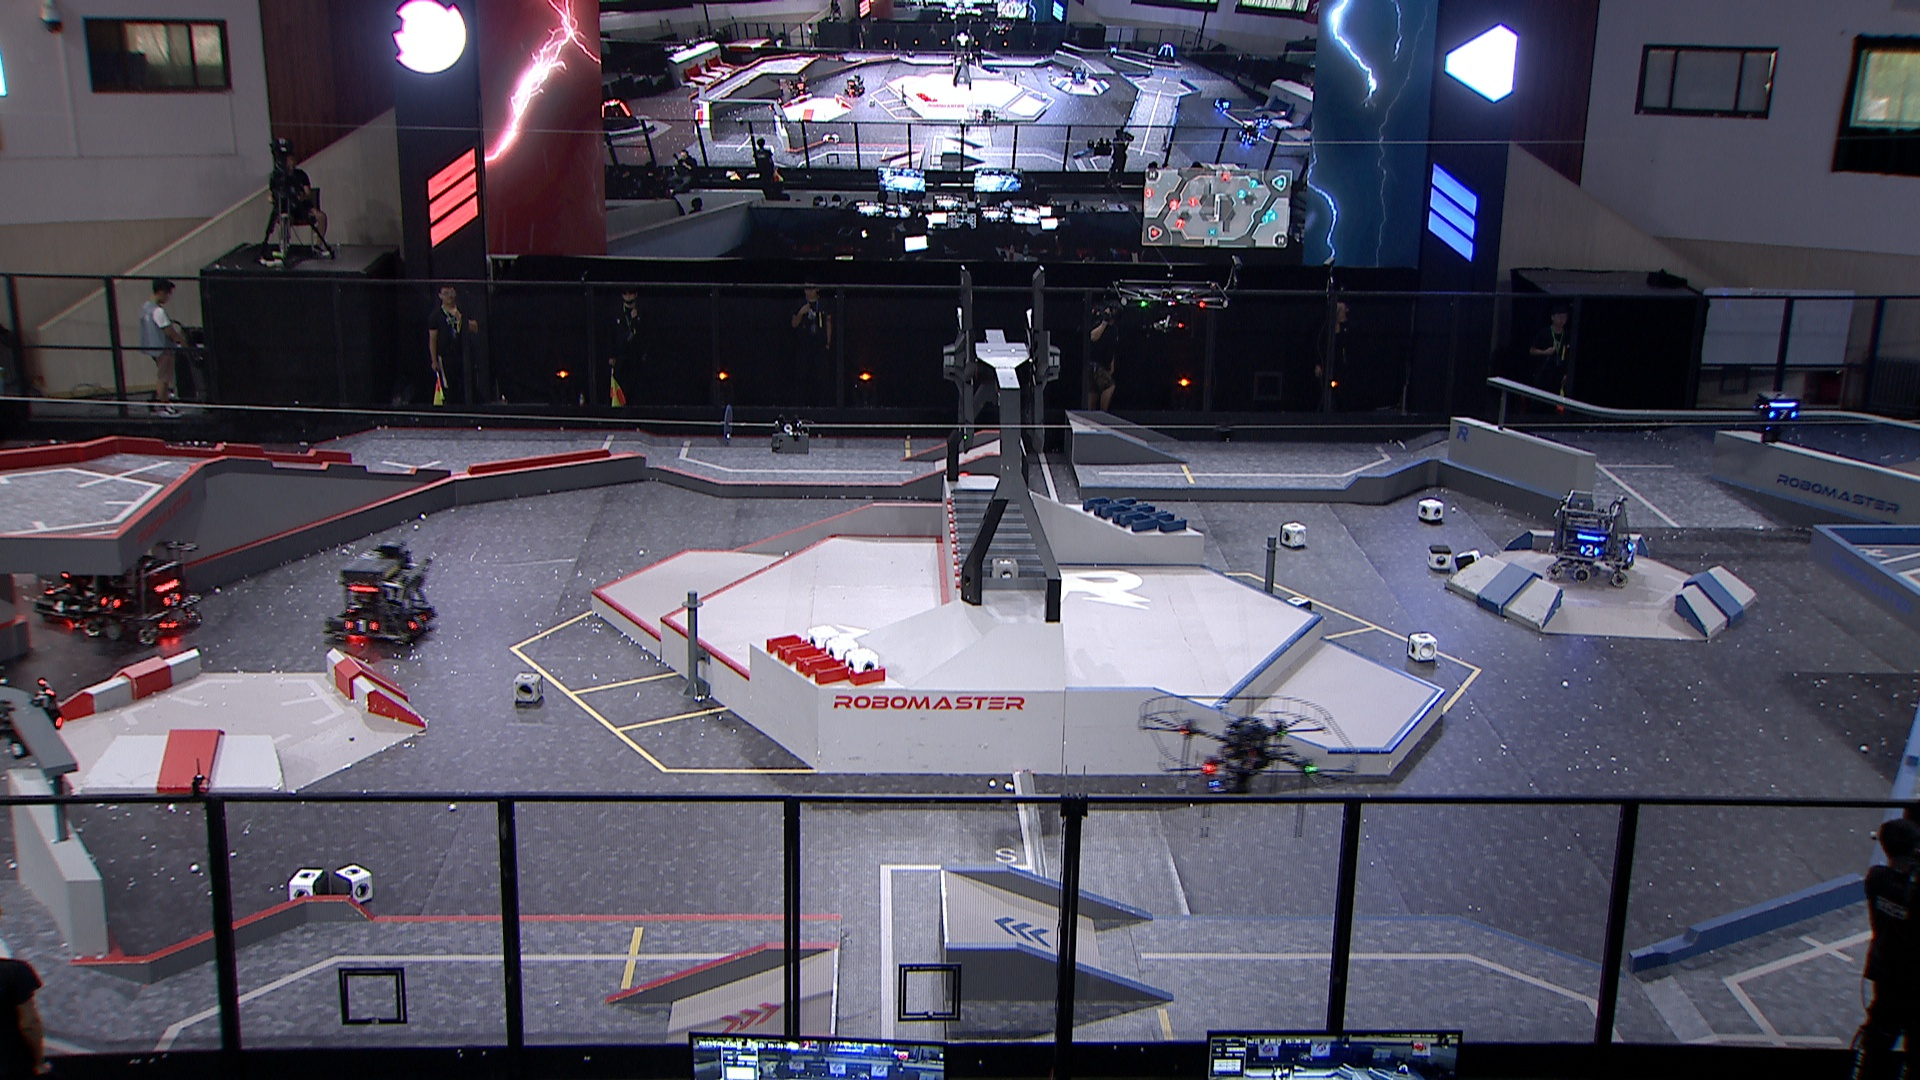armor: (342, 615, 380, 636), (1764, 405, 1799, 425), (44, 597, 73, 617), (406, 609, 430, 633), (74, 583, 100, 604), (98, 593, 125, 612), (343, 593, 363, 616), (1576, 542, 1600, 560), (164, 589, 183, 609)
car: (320, 547, 438, 651), (91, 542, 207, 645), (1542, 488, 1638, 589), (32, 564, 109, 632)
ignore: (599, 95, 642, 133), (841, 73, 868, 98), (1234, 124, 1261, 146), (787, 74, 811, 98), (1155, 41, 1178, 65), (1251, 104, 1273, 127), (1069, 67, 1088, 86), (1215, 95, 1230, 111)
watcher: (1749, 386, 1803, 452)
